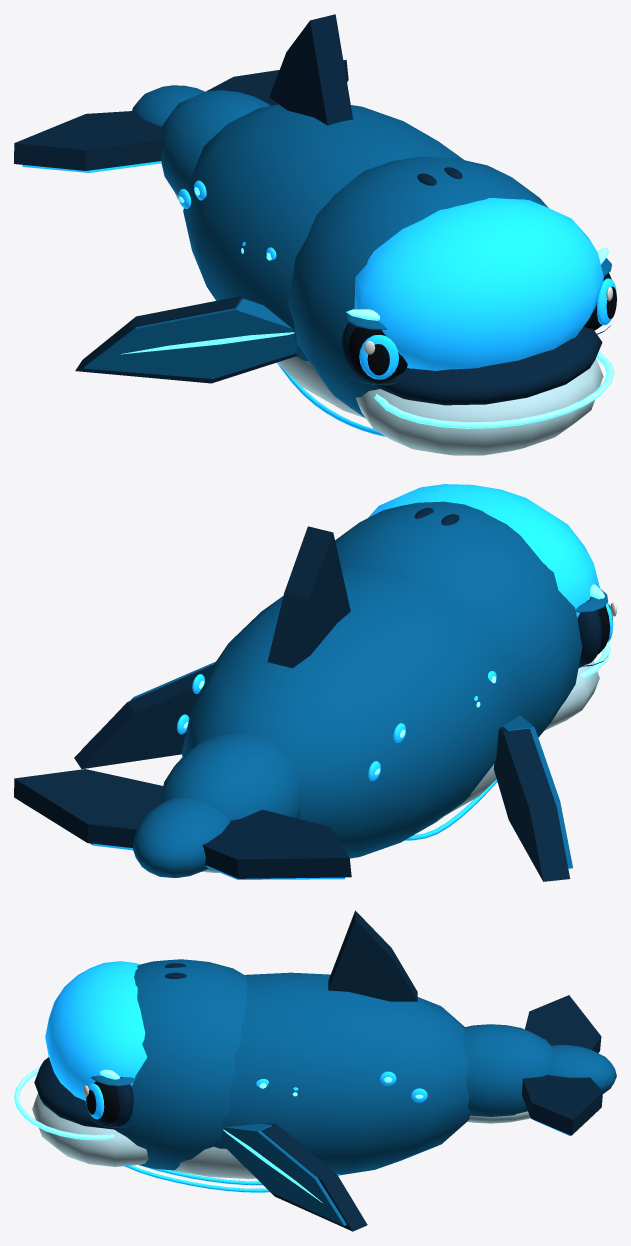
The model's file is deepseek.glb.
3 renders of one model, top to bottom at view 1: azimuth 30°, elevation 25°; view 2: azimuth 150°, elevation 25°; view 3: azimuth 270°, elevation 25°, orthographic. The views are drawn at different scales.
Parts seen in each view (by area): view 1: deepseek-head, deepseek-body, deepseek-pectoral-left, deepseek-jaw, deepseek-tail-lobe-left, deepseek-dorsal-fin, deepseek-tail-peduncle, deepseek-eye-left, deepseek-tail-fluke, deepseek-tail-lobe-right, deepseek-eye-right, deepseek-ventral-pleat; view 2: deepseek-body, deepseek-head, deepseek-tail-peduncle, deepseek-tail-lobe-left, deepseek-tail-lobe-right, deepseek-pectoral-left, deepseek-dorsal-fin, deepseek-pectoral-right, deepseek-tail-fluke, deepseek-eye-left, deepseek-jaw, deepseek-ventral-pleat; view 3: deepseek-body, deepseek-head, deepseek-pectoral-right, deepseek-tail-peduncle, deepseek-dorsal-fin, deepseek-jaw, deepseek-tail-lobe-right, deepseek-tail-lobe-left, deepseek-tail-fluke, deepseek-eye-right, deepseek-ventral-pleat (×2).
Part boxes in pixels (box(x1,y1,x2,y2)): deepseek-head: box(288, 157, 603, 418); deepseek-body: box(178, 104, 463, 417); deepseek-pectoral-left: box(75, 296, 297, 383); deepseek-jaw: box(356, 351, 614, 455); deepseek-tail-lobe-left: box(14, 110, 163, 172); deepseek-dorsal-fin: box(269, 14, 353, 125); deepseek-tail-peduncle: box(160, 90, 270, 199); deepseek-eye-left: box(341, 322, 407, 383); deepseek-tail-fluke: box(132, 85, 204, 126); deepseek-tail-lobe-right: box(206, 59, 348, 105); deepseek-eye-right: box(583, 273, 616, 330); deepseek-ventral-pleat: box(278, 364, 385, 436); deepseek-body: box(177, 565, 523, 858); deepseek-head: box(335, 484, 599, 737); deepseek-tail-peduncle: box(161, 732, 302, 872); deepseek-tail-lobe-left: box(202, 809, 351, 879); deepseek-tail-lobe-right: box(14, 769, 163, 850); deepseek-pectoral-left: box(493, 715, 572, 881); deepseek-dorsal-fin: box(267, 526, 350, 668); deepseek-pectoral-right: box(74, 661, 215, 768); deepseek-tail-fluke: box(133, 797, 229, 877); deepseek-eye-left: box(577, 597, 616, 665); deepseek-jaw: box(544, 642, 610, 730); deepseek-ventral-pleat: box(404, 779, 497, 840); deepseek-body: box(169, 972, 470, 1178); deepseek-head: box(34, 959, 247, 1170); deepseek-pectoral-right: box(222, 1123, 367, 1231); deepseek-tail-peduncle: box(463, 1024, 553, 1123); deepseek-dorsal-fin: box(328, 910, 417, 1001); deepseek-jaw: box(14, 1067, 148, 1166); deepseek-tail-lobe-right: box(522, 1075, 602, 1135); deepseek-tail-lobe-left: box(525, 995, 601, 1053); deepseek-tail-fluke: box(548, 1045, 616, 1093); deepseek-eye-right: box(83, 1077, 133, 1126); deepseek-ventral-pleat (×2): box(124, 1165, 341, 1192).
Size of the model in its own units: 2.54 by 1.61 by 3.48.
